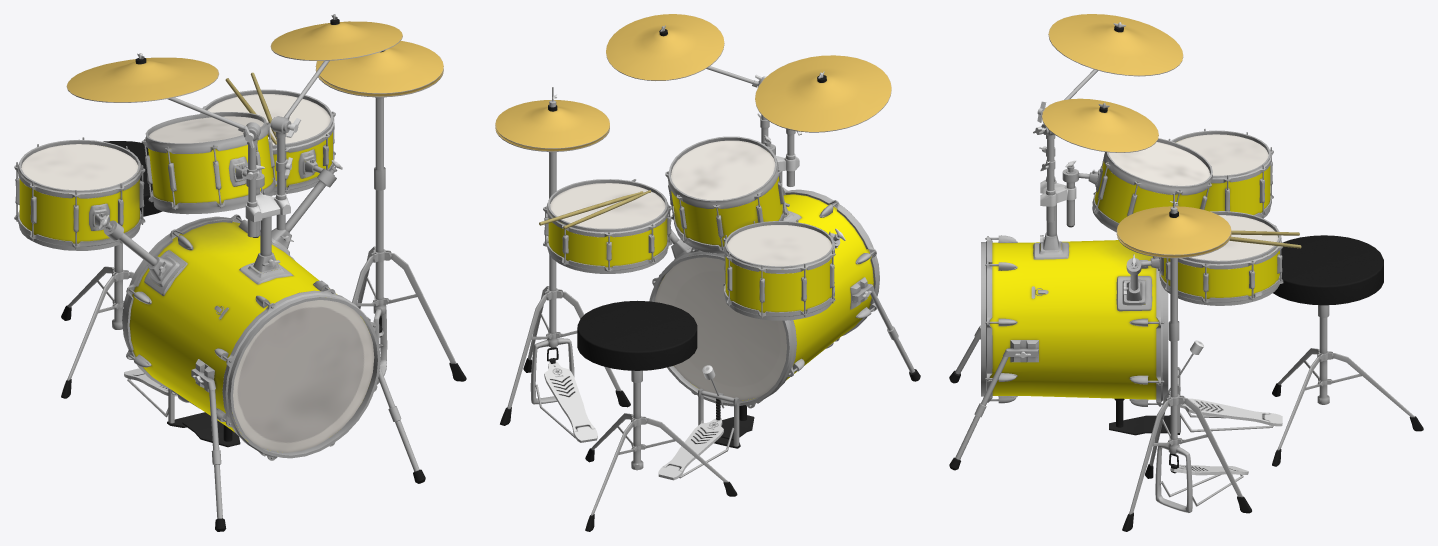
File: Drums.glb
3 views of the same model, side by side, from view 1: azimuth 30°, elevation 25°; view 2: azimuth 150°, elevation 25°; view 3: azimuth 270°, elevation 25° (orthographic). The views are drawn at different scales.
Parts seen in each view (by area): view 1: Object_3, Object_6, Object_4, Object_5, Object_2; view 2: Object_3, Object_2, Object_5, Object_4, Object_6; view 3: Object_6, Object_3, Object_2, Object_4, Object_5.
Boxes of the visible parts, bbox=[...] form: Object_3: bbox=[14, 74, 395, 531]; Object_6: bbox=[14, 14, 380, 460]; Object_4: bbox=[14, 50, 466, 531]; Object_5: bbox=[14, 14, 375, 459]; Object_2: bbox=[66, 21, 443, 102]; Object_3: bbox=[539, 133, 892, 531]; Object_2: bbox=[495, 14, 891, 151]; Object_5: bbox=[543, 25, 876, 479]; Object_4: bbox=[500, 66, 920, 442]; Object_6: bbox=[543, 26, 879, 480]; Object_6: bbox=[981, 22, 1282, 435]; Object_3: bbox=[980, 114, 1423, 466]; Object_2: bbox=[1042, 14, 1231, 258]; Object_4: bbox=[949, 69, 1300, 531]; Object_5: bbox=[985, 22, 1283, 434].
Size of the model in its own units: 127 by 126 by 148.
Materials: 2 (2 with a texture image).
